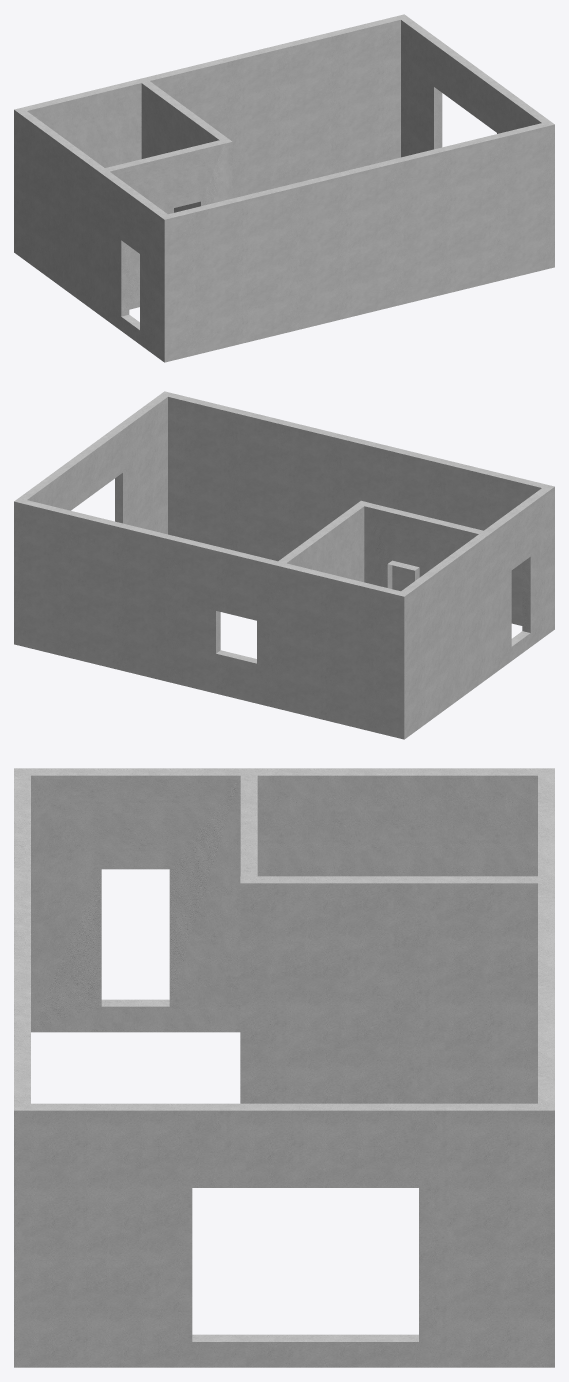
The model's file is Wall.fbx.
The picture shows the model from 3 angles, top to bottom: view 1: azimuth 30°, elevation 25°; view 2: azimuth 150°, elevation 25°; view 3: azimuth 270°, elevation 25°; orthographic projection. The views are drawn at different scales.
Visible parts, largest first — view 1: pCube16; view 2: pCube16; view 3: pCube16.
Boxes of the visible parts, <box> form: pCube16: <box>14,14,554,362</box>; pCube16: <box>14,391,554,739</box>; pCube16: <box>14,768,554,1367</box>.
Size of the model in its own units: 14.3 by 5 by 9.55.
